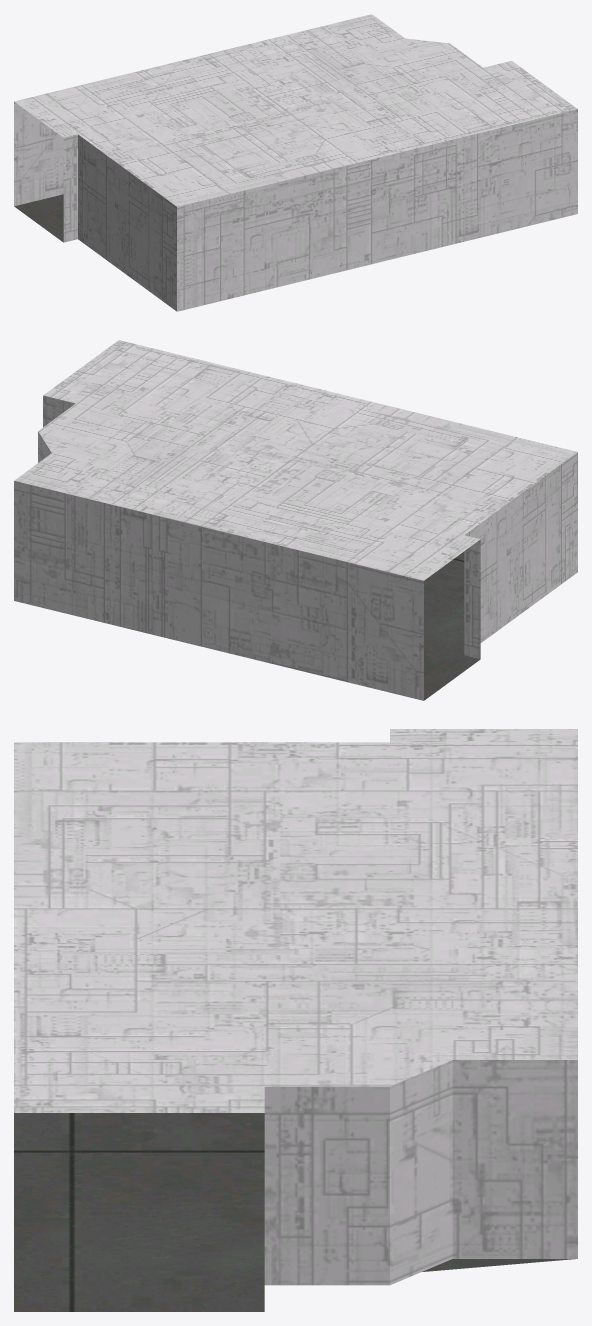
File: thm_spc_star_destroyer_s01_r44_reactorctrl_mesh_r44.fbx
3 views of the same model, one above another, from view 1: azimuth 30°, elevation 25°; view 2: azimuth 150°, elevation 25°; view 3: azimuth 270°, elevation 25° (orthographic). The views are drawn at different scales.
Parts seen in each view (by area): view 1: mesh_node; view 2: mesh_node; view 3: mesh_node.
Part boxes in pixels (left/top/right/bottom): mesh_node: left=14, top=14, right=577, bottom=311; mesh_node: left=14, top=340, right=577, bottom=700; mesh_node: left=14, top=729, right=577, bottom=1311.
Size of the model in its own units: 14.5 by 3.5 by 9.
Materials: 2 (2 with a texture image).
